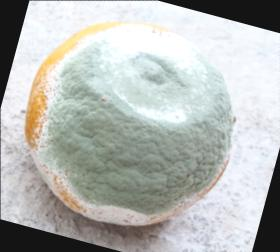Orange Rotten: (0, 0, 265, 250)
